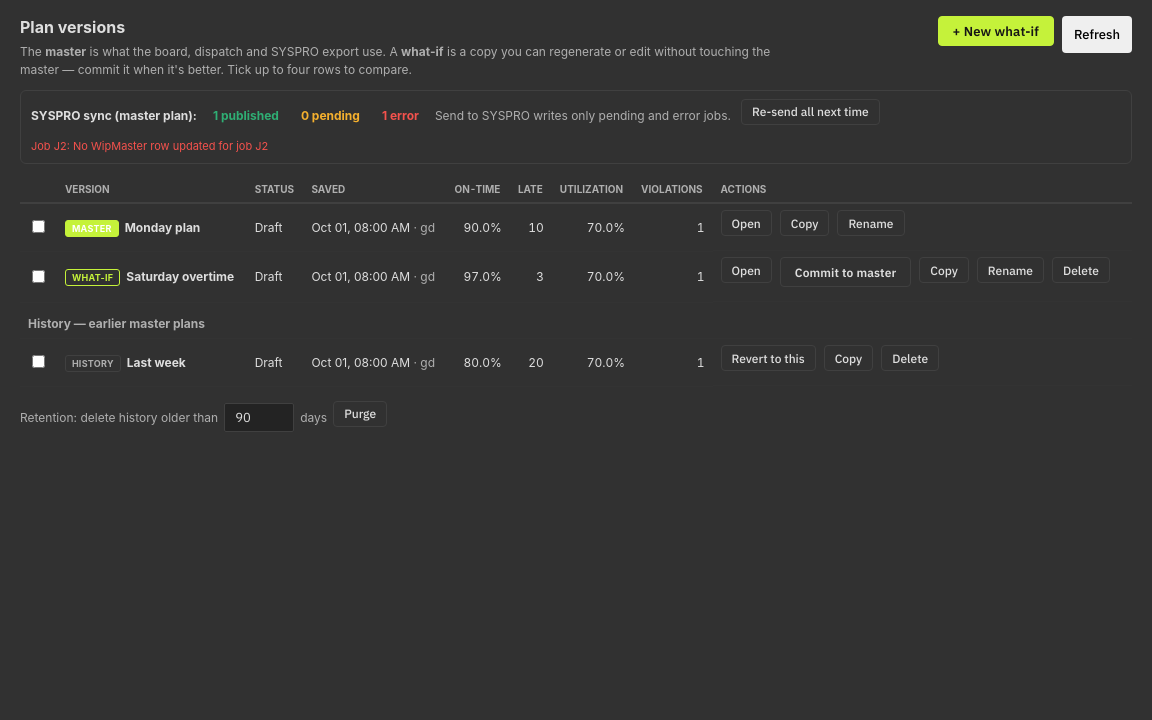
Scenario: VersionsPanel › opening a what-if puts it on the board as the active version
Expected: the text "Saturday overtime" is shown, [126,269,234,284]
Step 1. Click the button "Open" in the row of "Saturday overtime" → click(746, 270), box [721,257,772,283]
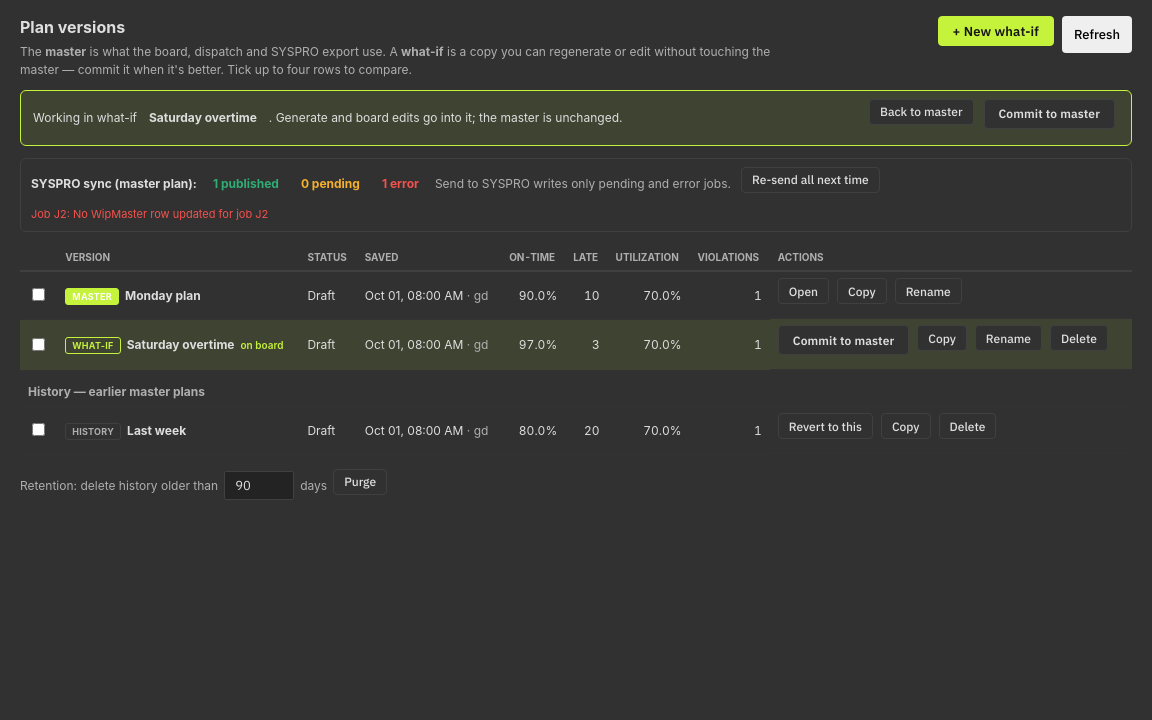
Result: the message shows "Working in what-if" at [33,110,137,125]
